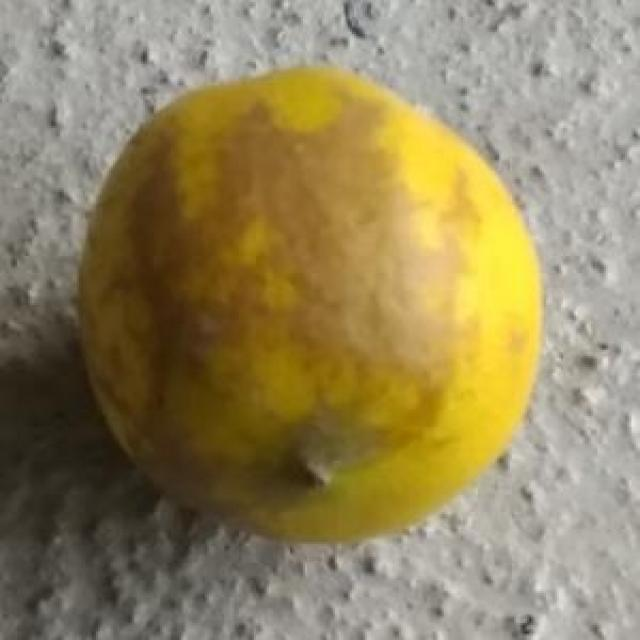lemon: (74, 66, 552, 548)
